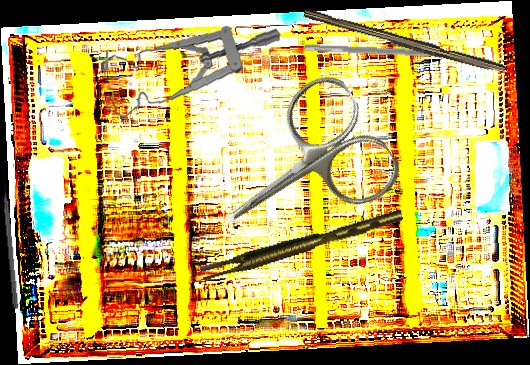Iris Scissors: (187, 66, 409, 277)
Pusher: (1, 173, 20, 310)
Scalpel Handle: (301, 8, 507, 77)
Spatula Surgical: (304, 44, 478, 65)
Speculum: (97, 12, 282, 132)
Tissue Forceps: (197, 209, 407, 282)
